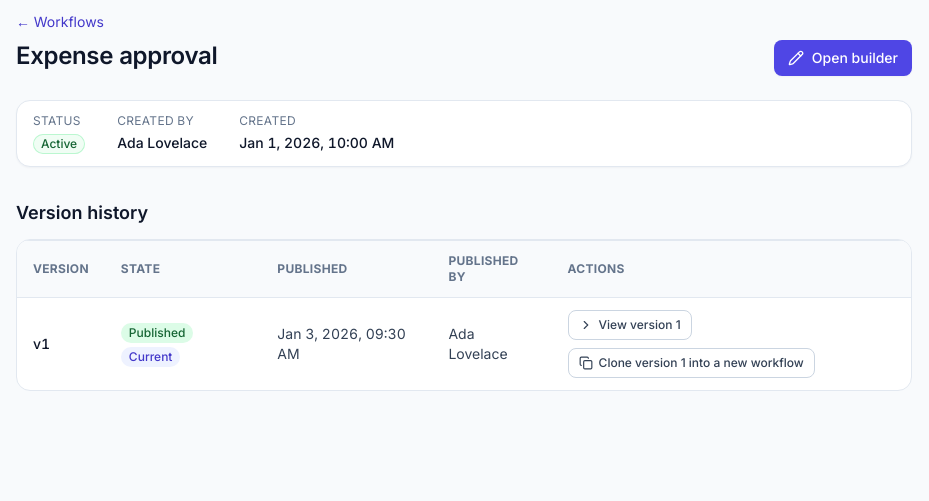
Test: WorkflowVersionHistory › expands a version's stored graph in place
Click the button "View version 1" at [630, 325], box [568,310,692,340]
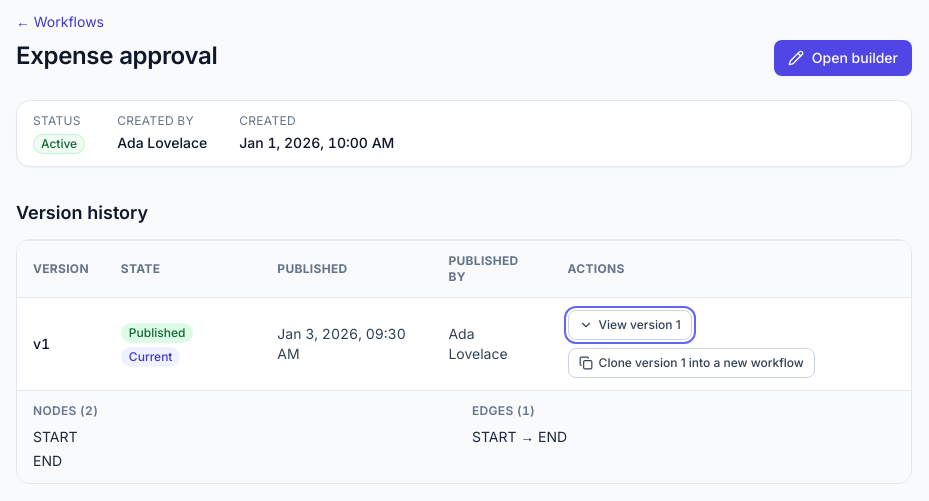
Check: the button "View version 1" is expanded, box [568,310,692,340]
Check: the heading "Nodes (2)" is shown, box [33,403,98,418]
Check: the list item "START → END" is shown, box [472,428,567,445]
